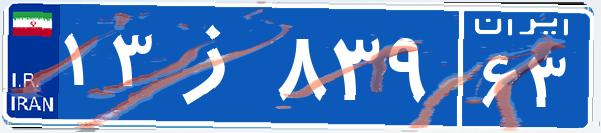1: (57, 26, 110, 107)
3: (330, 28, 385, 110), (110, 28, 158, 105), (525, 38, 570, 115)
6: (475, 38, 525, 113)
8: (273, 28, 330, 110)
9: (385, 28, 445, 110)
ز: (158, 15, 273, 115)
